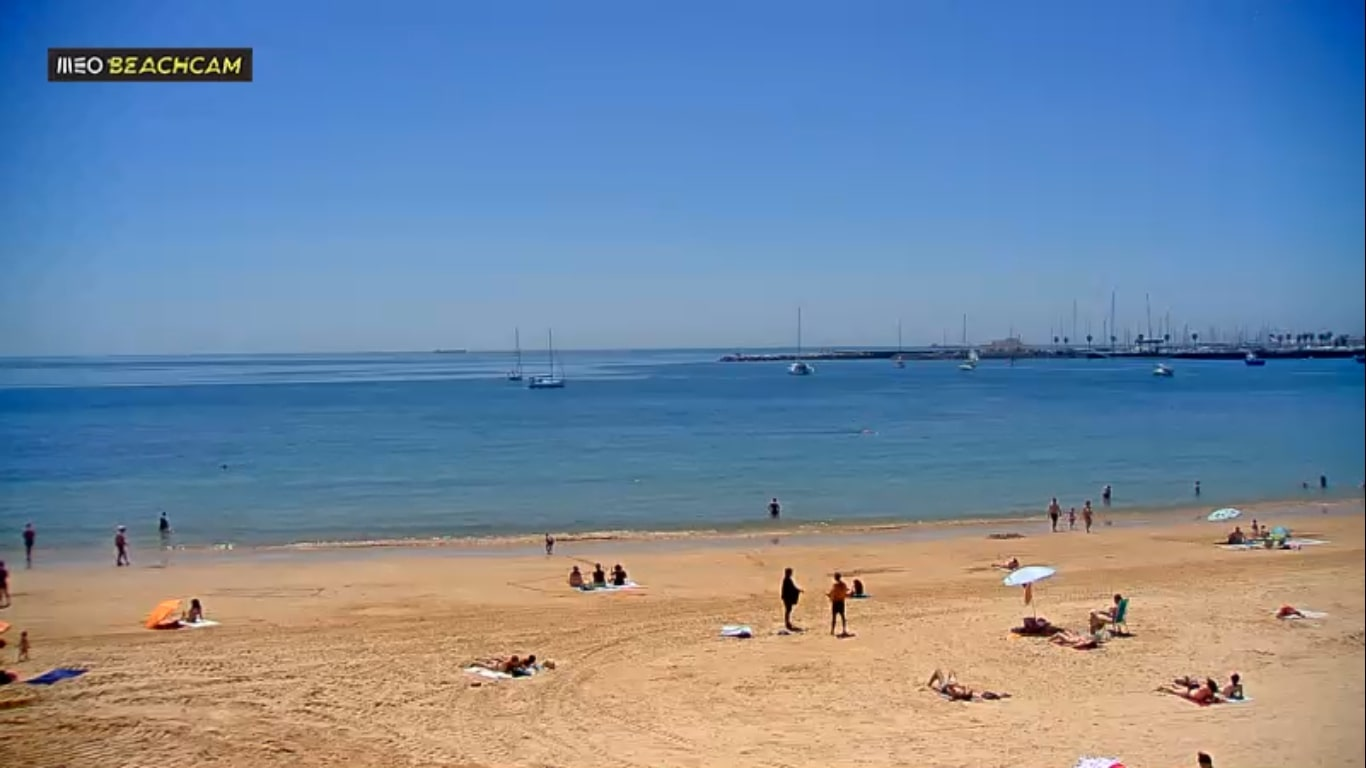person: (928, 666, 977, 699), (780, 565, 801, 631), (828, 572, 849, 637), (1089, 592, 1130, 623), (1157, 679, 1217, 700), (1049, 629, 1099, 649), (470, 654, 522, 673), (112, 524, 130, 567), (21, 520, 35, 570), (1222, 672, 1244, 701), (155, 508, 173, 540), (1046, 496, 1062, 531), (0, 557, 11, 604), (183, 596, 202, 621), (591, 561, 606, 591), (15, 632, 31, 660), (609, 561, 625, 584), (569, 565, 584, 589), (1227, 525, 1245, 544), (991, 557, 1019, 569), (1083, 499, 1093, 532), (767, 498, 781, 521), (523, 652, 539, 672), (543, 531, 554, 555), (853, 578, 865, 598), (1066, 507, 1076, 530), (1101, 483, 1111, 500), (1259, 523, 1269, 538), (1251, 518, 1258, 534), (1319, 473, 1326, 488), (1194, 480, 1200, 496)
